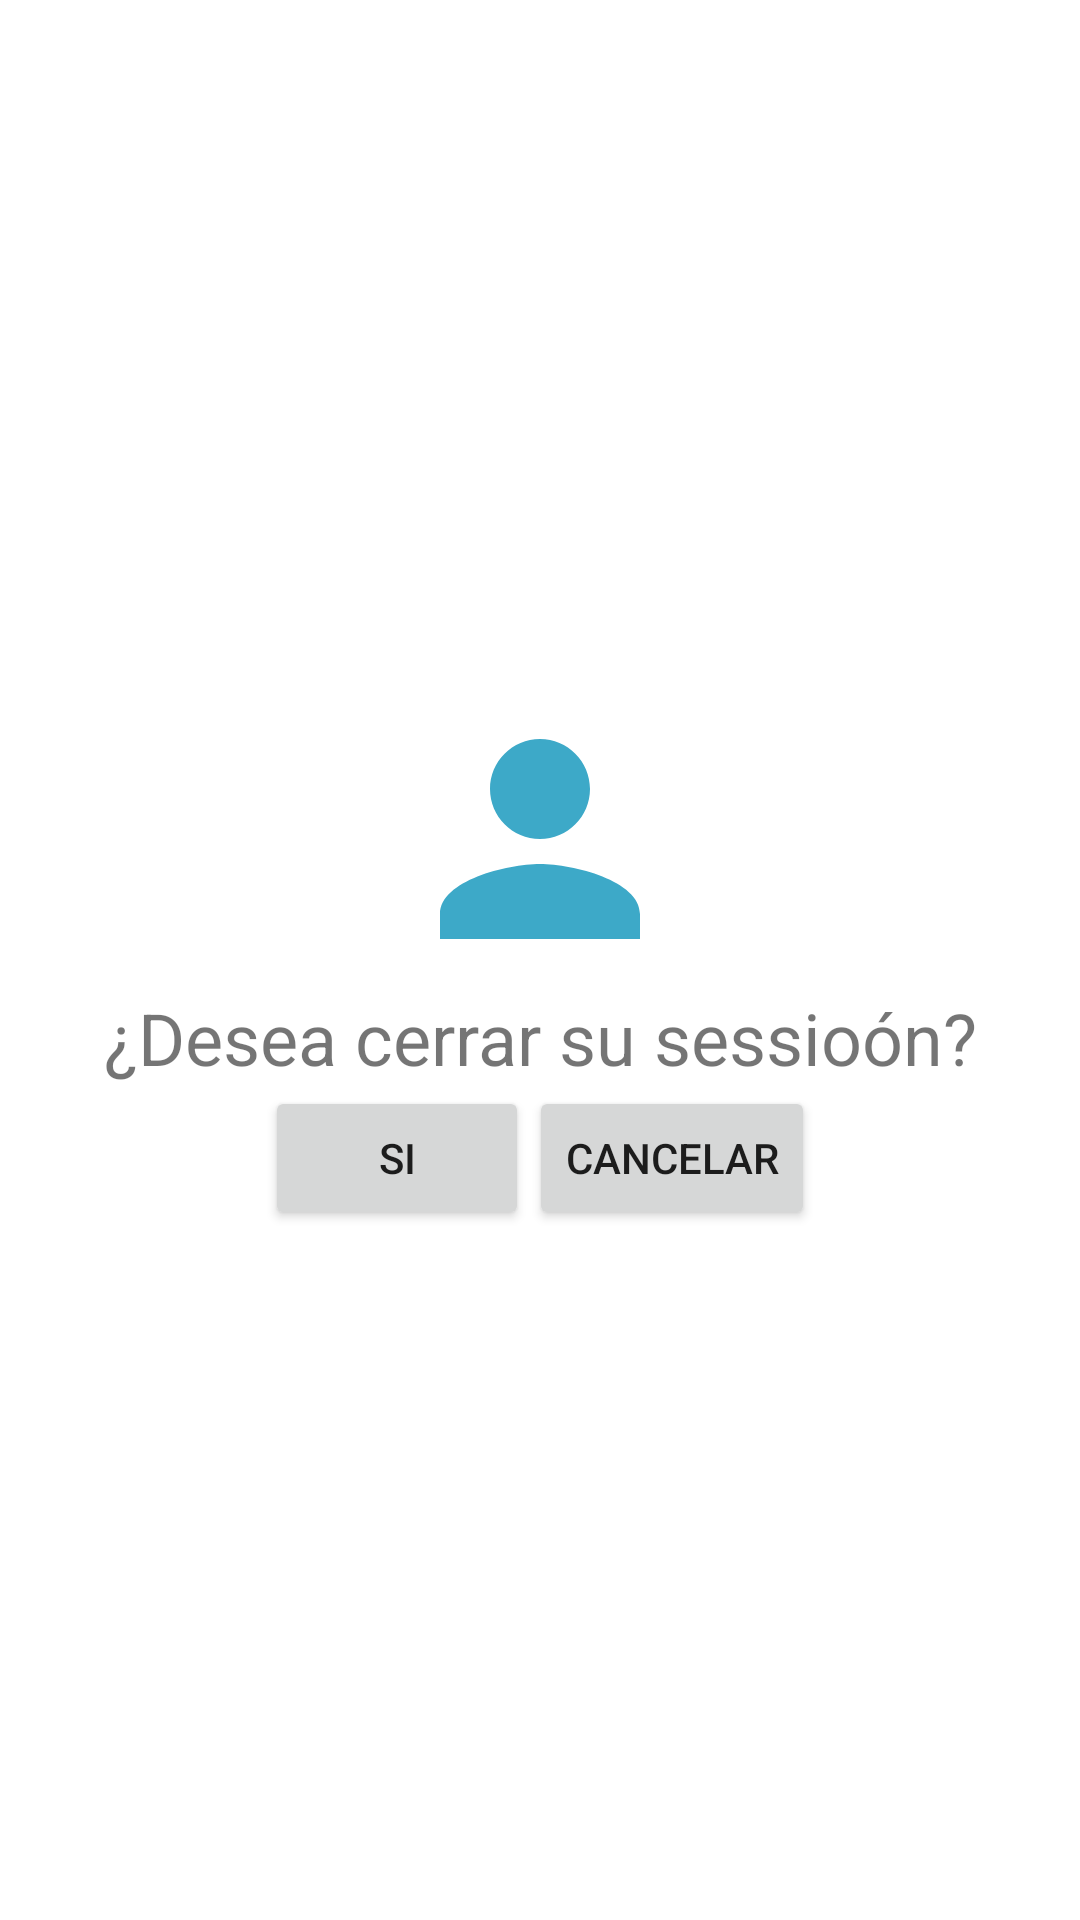

Screen size 1080×1920. Icon name, then its box in pixels as (x1, y1, x2, y2):
user: (440, 739, 640, 939)
